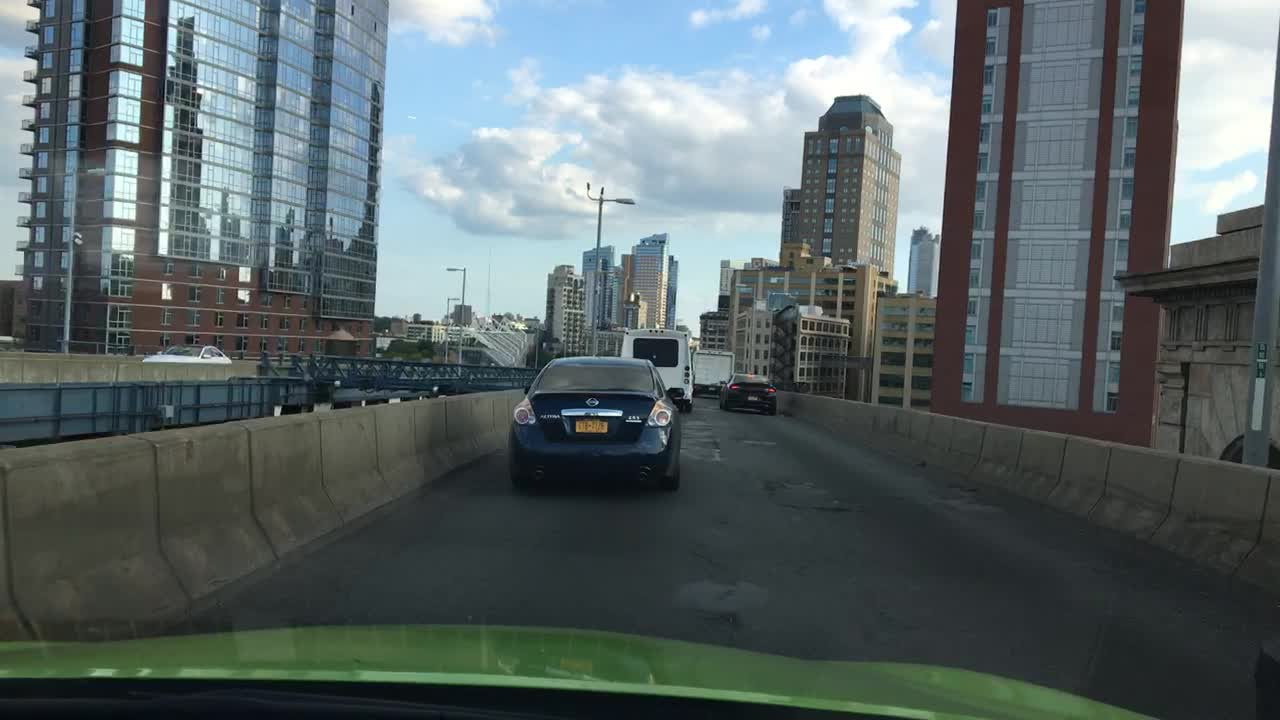car: (507, 354, 676, 499), (718, 371, 781, 415), (137, 345, 227, 366)
truck: (616, 326, 694, 413), (693, 350, 737, 396)
